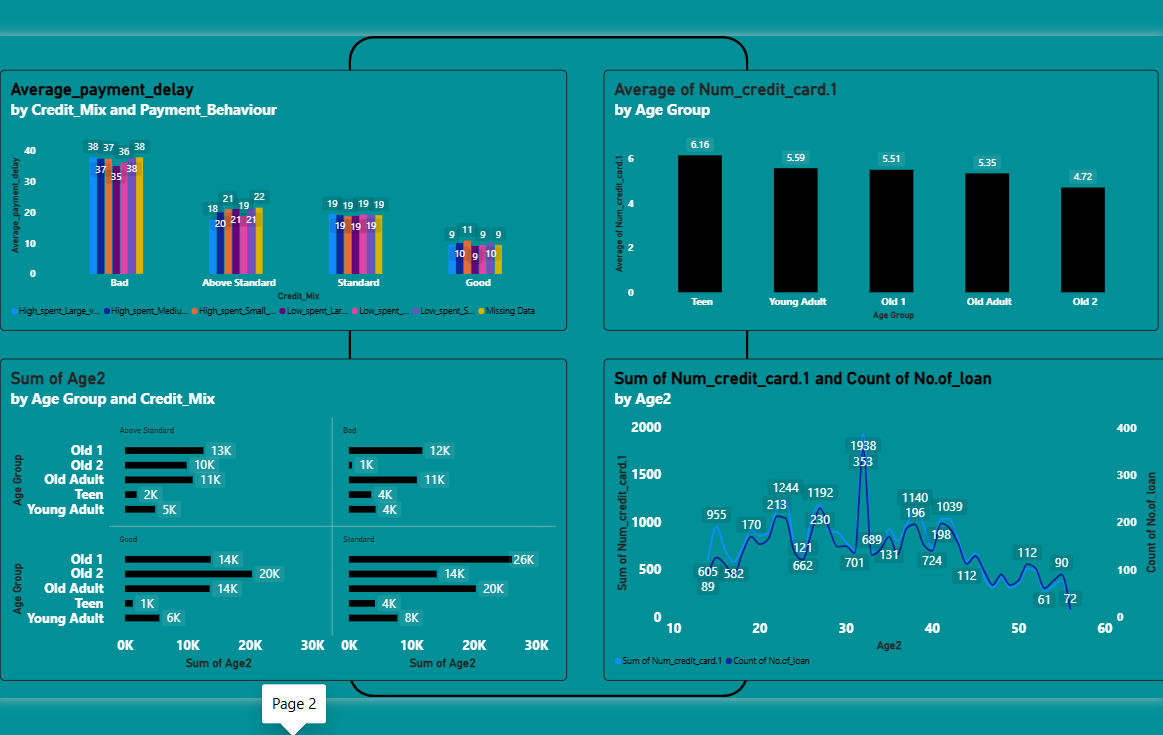

The page's visual inventory and layout, read from the dashboard file:
{"tool":"powerbi","page":{"name":"Page 2","canvas":[1920,1080],"ordinal":1},"visuals":[{"type":"shape","box":[583.7,0,653.1,1079.6],"z":0},{"type":"clusteredBarChart","fields":{"Category":["Cleaned data.Age Group"],"Rows":["Cleaned data.Credit_Mix"],"Y":["Sum(Cleaned data.Age2)"]},"box":[14.3,526.5,926.5,526.5],"z":1},{"type":"clusteredColumnChart","fields":{"Category":["Cleaned data.Credit_Mix"],"Series":["Cleaned data.Payment_Behaviour"],"Y":["Cleaned data.Average_payment_delay"]},"box":[14.3,55.1,926.5,426.5],"z":2},{"type":"clusteredColumnChart","fields":{"Category":["Cleaned data.Age Group"],"Y":["Avg(Cleaned data.Num_credit_card.1)"]},"box":[1000,55.1,906.1,426.5],"z":3},{"type":"lineChart","fields":{"Category":["Cleaned data.Age2"],"Y":["Sum(Cleaned data.Num_credit_card.1)"],"Y2":["CountNonNull(Cleaned data.No.of_loan)"]},"box":[1000,526.5,920.4,526.5],"z":4}]}

Visuals, with their boxes on the page's 1920x1080 design canvas (x1, y1, x2, y2). These are canvas units, not pixel positions in the 1163x735 screenshot, which may show the page scaled, cropped or inside an application window:
shape: 584:0:1237:1080
clusteredBarChart - Cleaned data.Age Group x Cleaned data.Credit_Mix: 14:526:941:1053
clusteredColumnChart - Cleaned data.Credit_Mix x Cleaned data.Payment_Behaviour: 14:55:941:482
clusteredColumnChart - Cleaned data.Age Group x Avg(Cleaned data.Num_credit_card.1): 1000:55:1906:482
lineChart - Cleaned data.Age2 x Sum(Cleaned data.Num_credit_card.1): 1000:526:1920:1053
